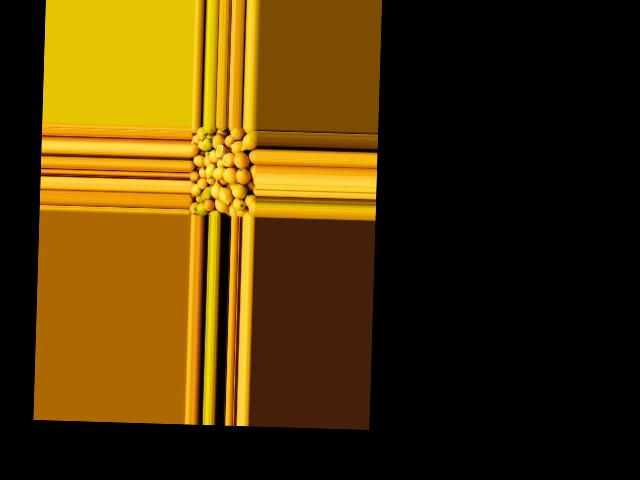lemon: (250, 164, 257, 178)
